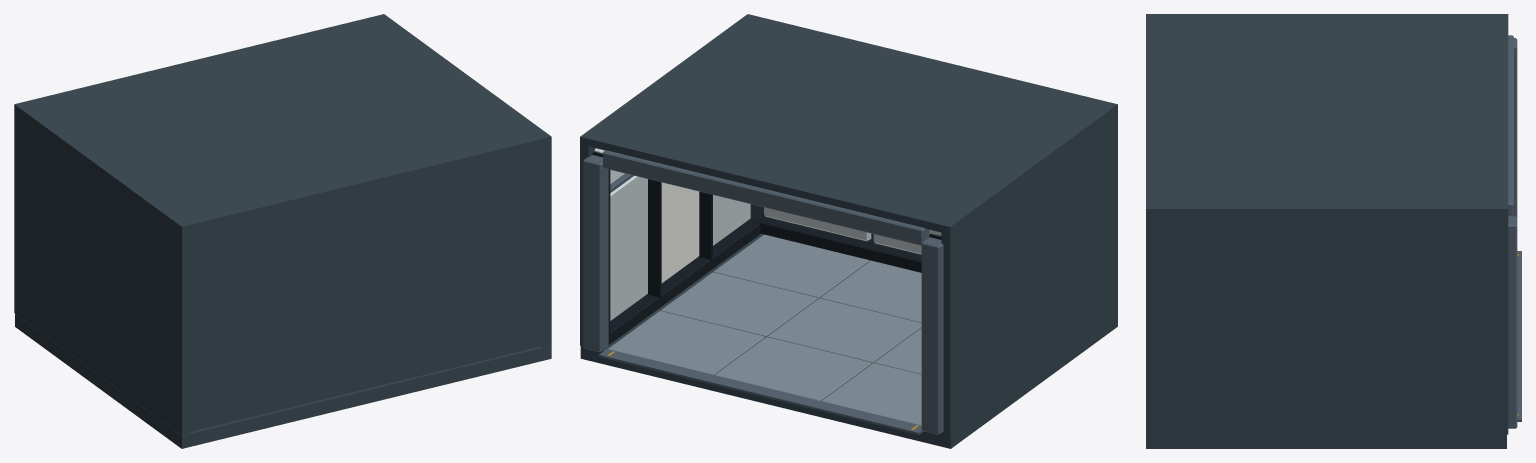
The model's file is entry_room.obj.
3 renders of one model, left to right at view 1: azimuth 30°, elevation 25°; view 2: azimuth 150°, elevation 25°; view 3: azimuth 270°, elevation 25°, orthographic. The views are drawn at different scales.
Parts seen in each view (by area): view 1: entry_recess; view 2: entry_recess, entry_floor, entry_steel, entry_dark, entry_wall, entry_white; view 3: entry_recess, entry_steel.
Part boxes in pixels (x1=…): entry_recess: x1=14, y1=14, x2=551, y2=448; entry_recess: x1=580, y1=14, x2=1117, y2=448; entry_floor: x1=608, y1=234, x2=921, y2=425; entry_steel: x1=583, y1=150, x2=943, y2=434; entry_dark: x1=592, y1=151, x2=941, y2=344; entry_wall: x1=610, y1=175, x2=941, y2=320; entry_white: x1=661, y1=182, x2=699, y2=283; entry_recess: x1=1146, y1=14, x2=1508, y2=448; entry_steel: x1=1508, y1=35, x2=1521, y2=428.
Size of the model in its own units: 7.16 by 4.11 by 5.83.
